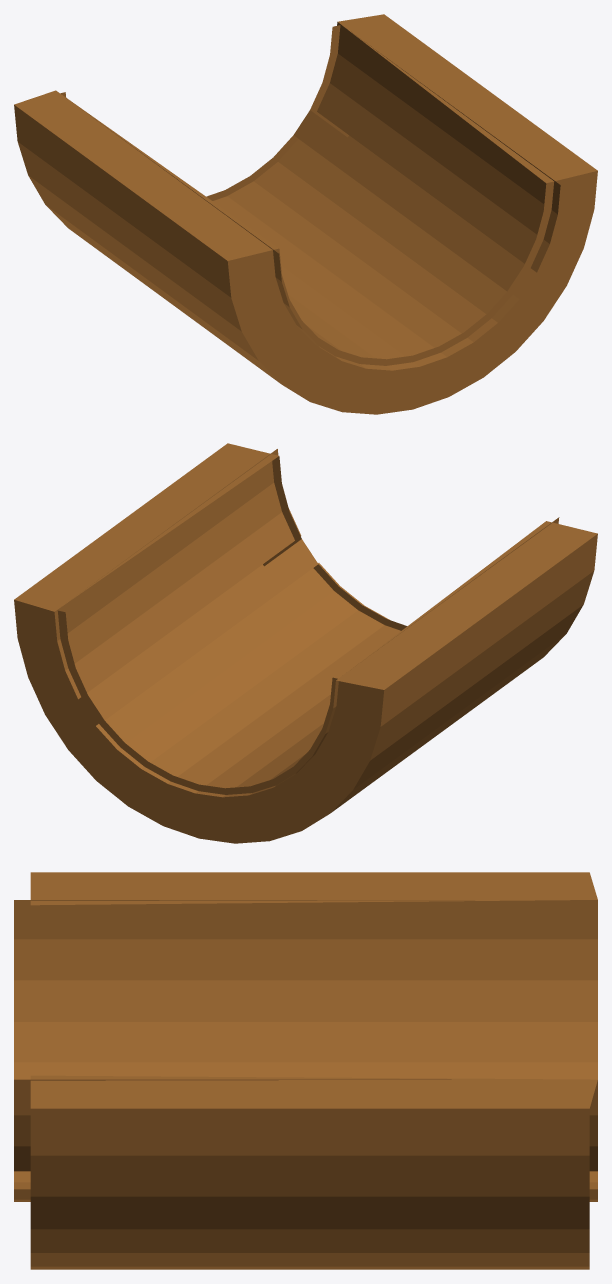
Rendered from pipe.fbx.
3 views of the same model, one above another, from view 1: azimuth 30°, elevation 25°; view 2: azimuth 150°, elevation 25°; view 3: azimuth 270°, elevation 25° (orthographic). The views are drawn at different scales.
Visible parts, largest first — view 1: Cylinder; view 2: Cylinder; view 3: Cylinder.
Boxes of the visible parts, bbox=[...] form: Cylinder: bbox=[14, 14, 597, 414]; Cylinder: bbox=[14, 443, 597, 843]; Cylinder: bbox=[14, 872, 597, 1269].
Size of the model in its own units: 2.73 by 1.37 by 2.85.
